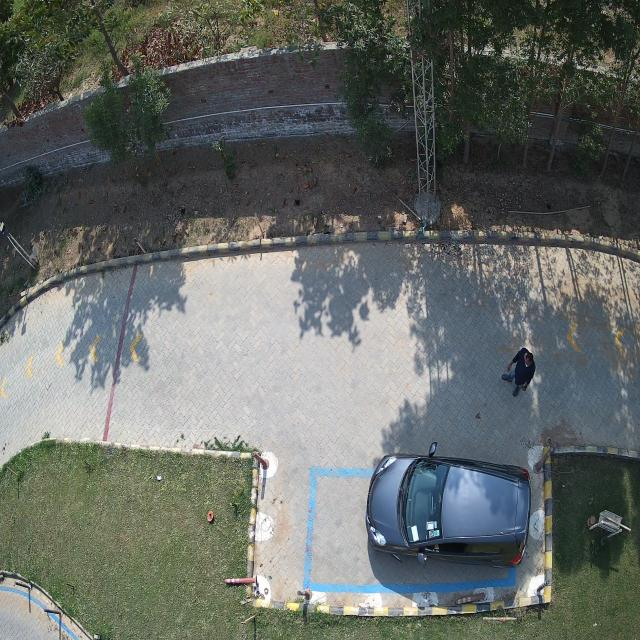car: (366, 453, 530, 567)
